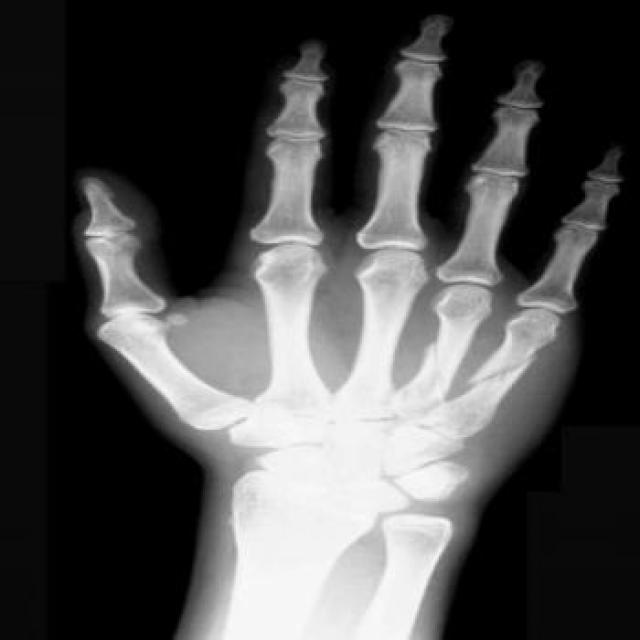Fracture: (463, 351, 557, 395)
